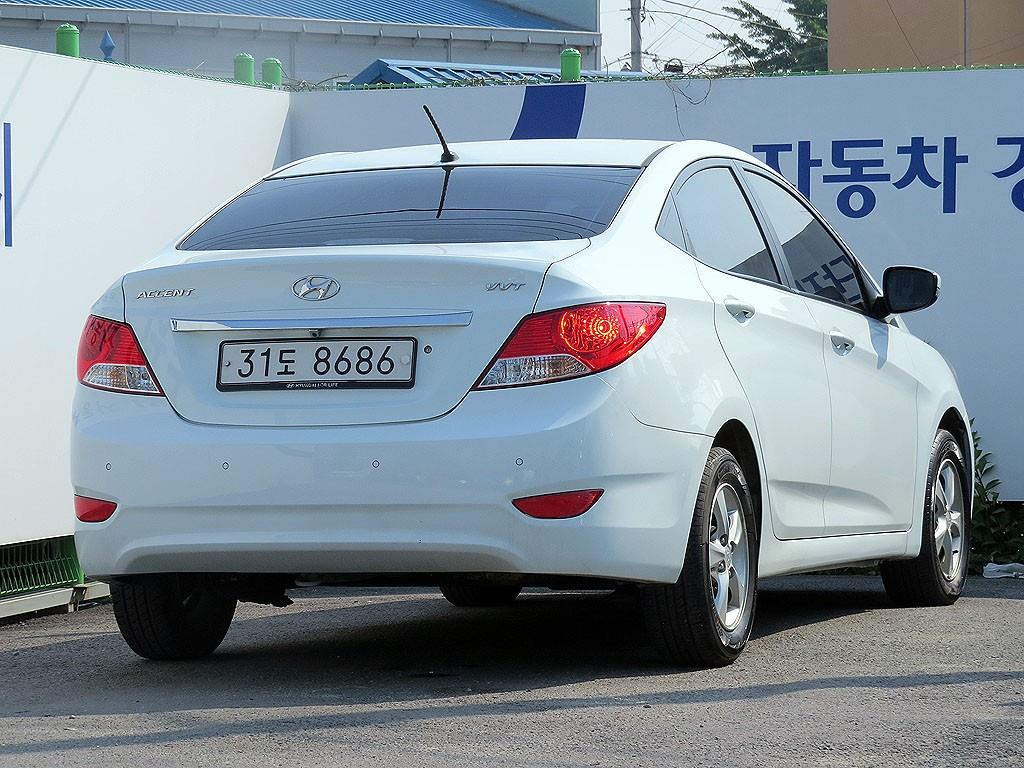plate: (220, 340, 413, 384)
